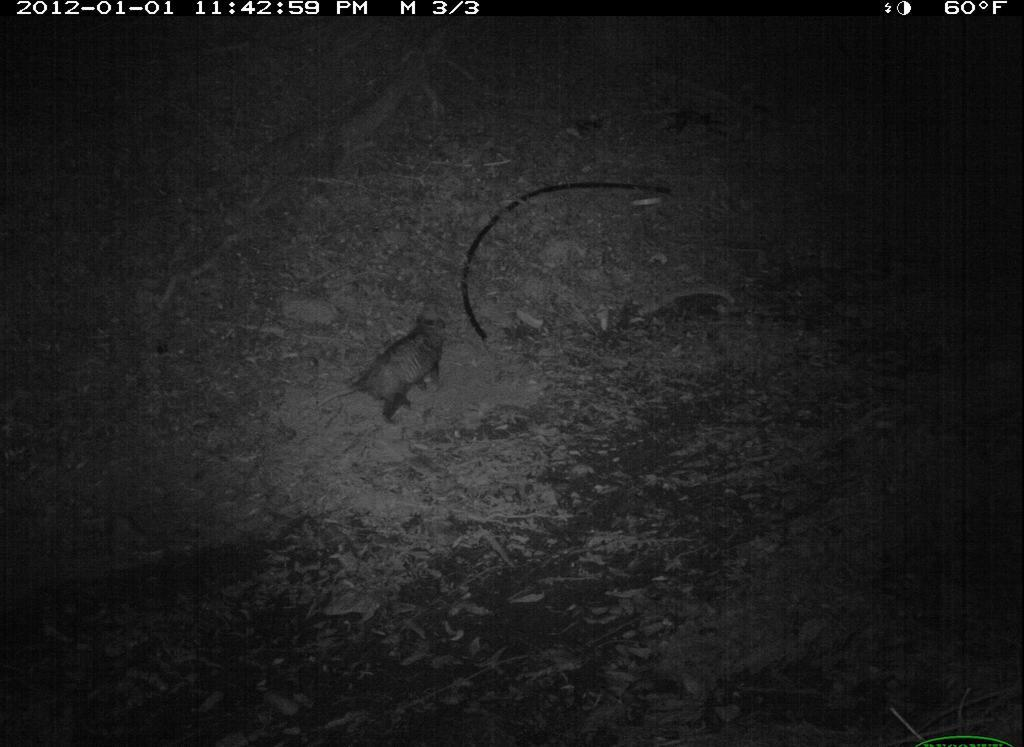opossum: (301, 304, 465, 434)
